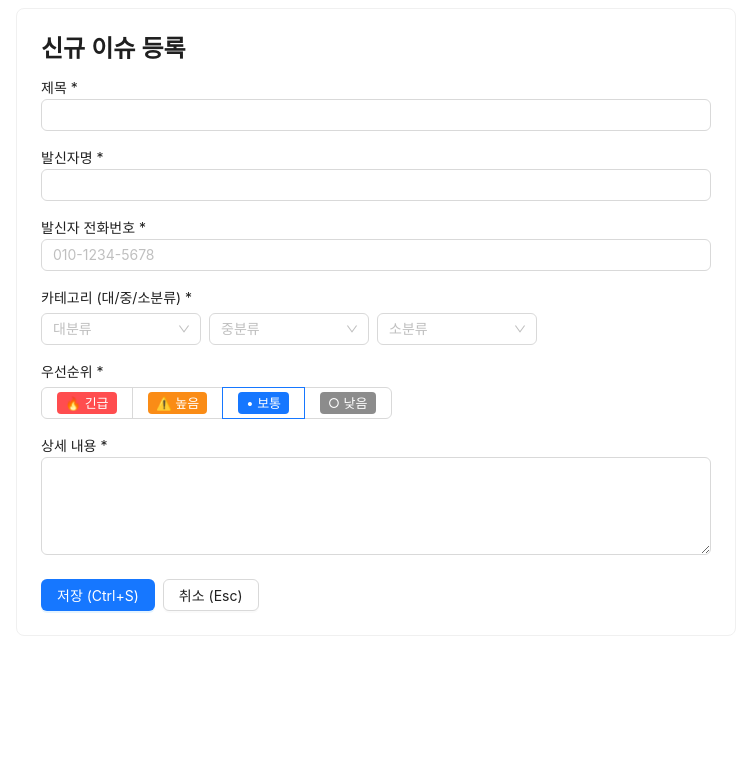
Test: IssueFormView › shows required-field validation messages on empty submit
This screenshot has width=753, height=767.
Click the button "저장 (Ctrl+S)": (98, 595) [41,579,155,611]
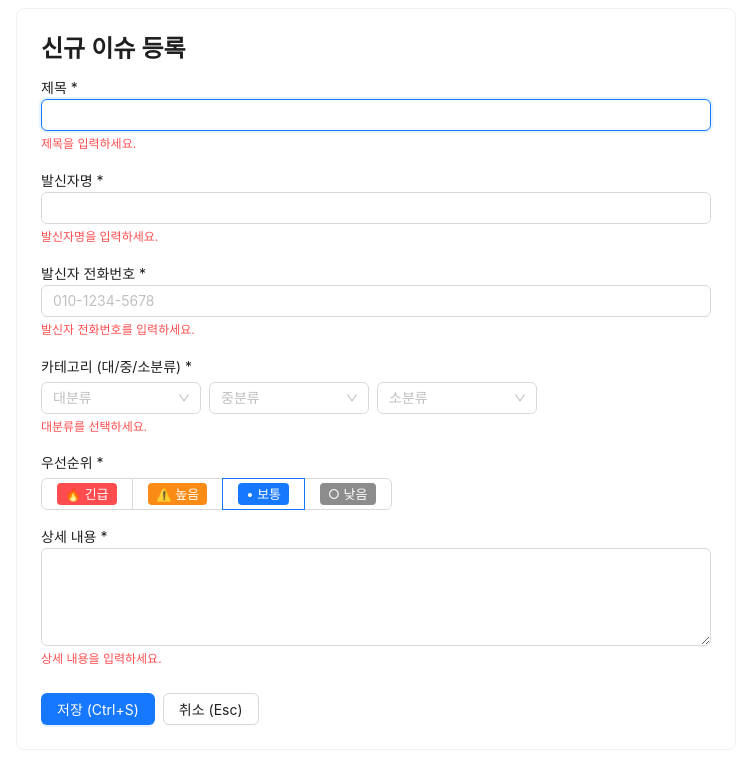
Expected: the text "제목을 입력하세요." is shown, [41,136,136,151]
Expected: the text "발신자명을 입력하세요." is shown, [41,229,158,244]
Expected: the text "발신자 전화번호를 입력하세요." is shown, [41,322,195,337]
